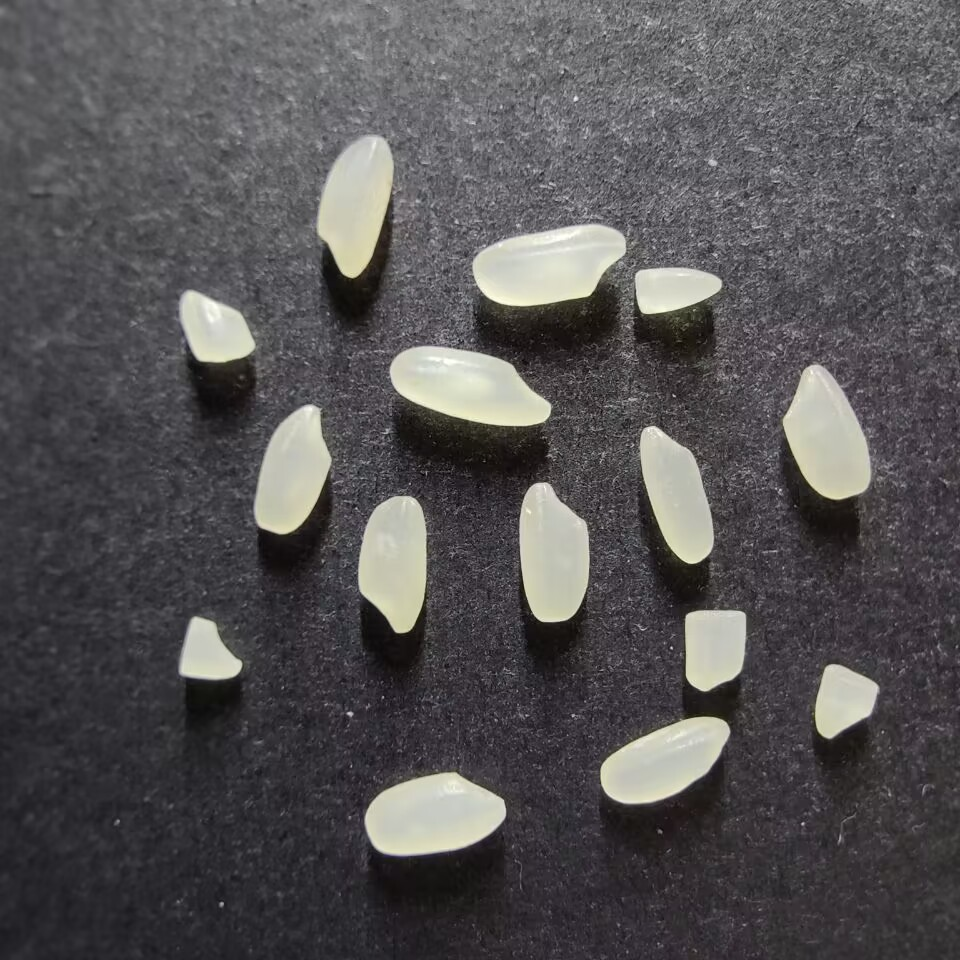broken: (179, 290, 255, 362), (683, 609, 747, 690), (814, 663, 879, 739), (634, 267, 722, 314), (178, 616, 242, 679)
rice: (389, 345, 551, 426), (471, 224, 626, 306), (781, 364, 871, 499), (364, 772, 505, 855), (600, 716, 730, 804), (316, 135, 393, 278), (638, 426, 714, 563), (518, 482, 590, 622), (253, 405, 331, 534), (356, 494, 427, 633)
